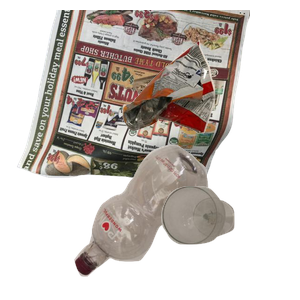glass: (159, 184, 300, 300)
paper: (14, 10, 254, 190)
plastic: (72, 142, 273, 300)
trash: (120, 38, 300, 164)
